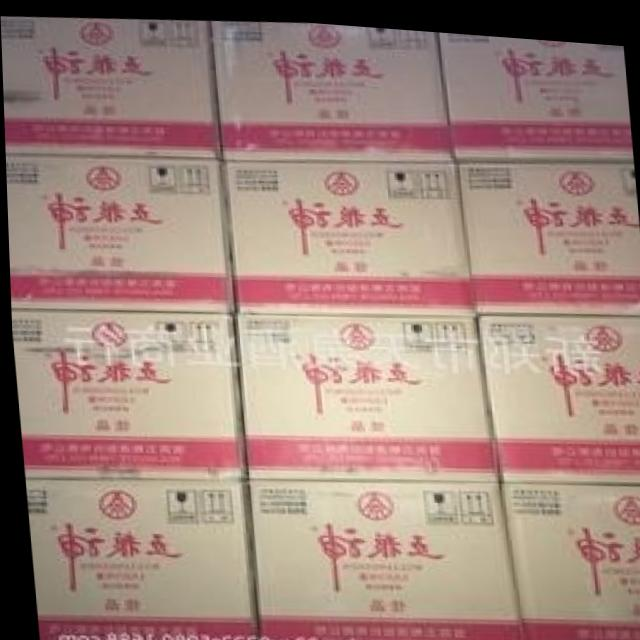box: (245, 474, 519, 640), (232, 308, 497, 474), (220, 155, 476, 309), (11, 308, 244, 477), (24, 474, 253, 640), (4, 153, 234, 309), (212, 19, 454, 156), (0, 16, 220, 155), (454, 153, 640, 308), (475, 307, 640, 474), (439, 26, 632, 154), (498, 473, 640, 640)
